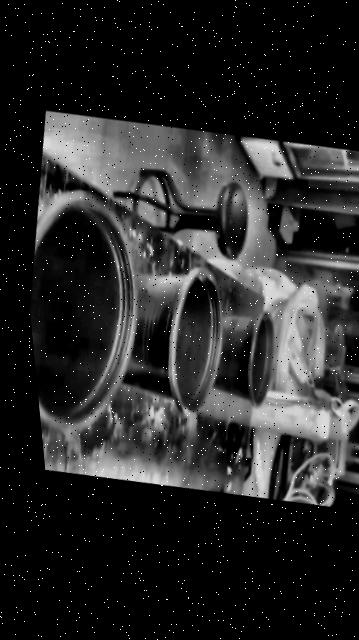pot: (19, 191, 160, 434), (120, 267, 220, 411), (211, 313, 272, 406)
